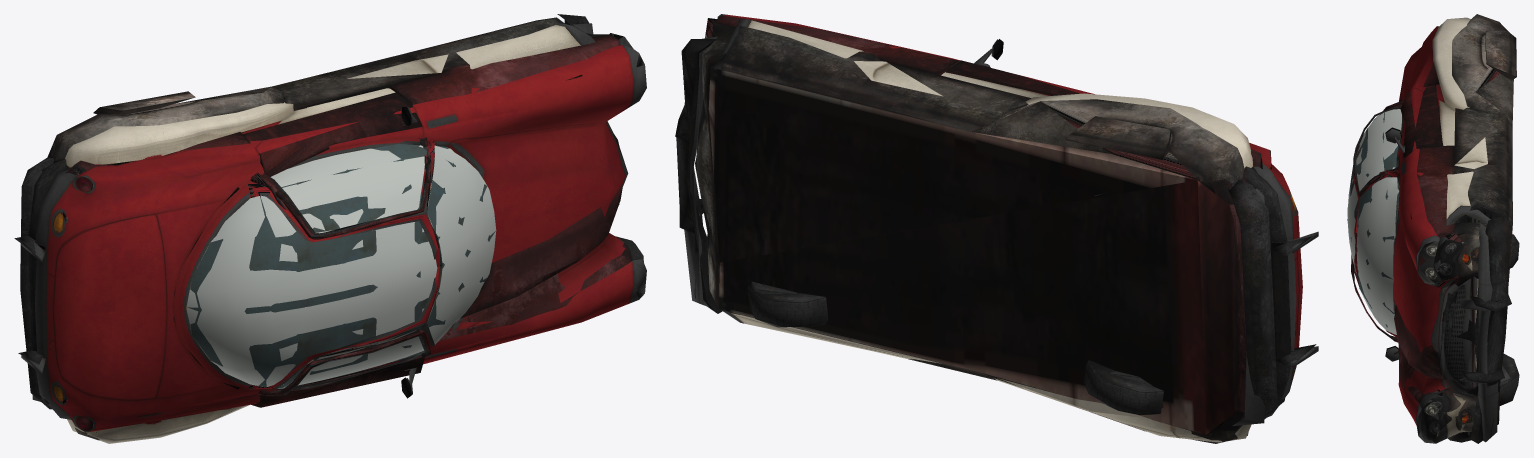
Rendered from veh_t6_nuketown_2020_car02_whole_LOD3.obj.
3 views of the same model, side by side, from view 1: azimuth 30°, elevation 25°; view 2: azimuth 150°, elevation 25°; view 3: azimuth 270°, elevation 25° (orthographic). The views are drawn at different scales.
Parts seen in each view (by area): view 1: mtl_nt_2020_car_02_exterior, mtl_nt_2020_car_02_dest_exterior, mtl_veh_t6_shattered_glass_in, mtl_nt_2020_car_01_glass_out, mtl_veh_t6_shattered_glass_out, mtl_nt_2020_car_01_glass_in; view 2: mtl_nt_2020_car_02_dest_exterior, mtl_nt_2020_car_02_exterior; view 3: mtl_nt_2020_car_02_dest_exterior, mtl_nt_2020_car_02_exterior, mtl_veh_t6_shattered_glass_in, mtl_nt_2020_car_01_glass_out, mtl_veh_t6_shattered_glass_out.
Boxes of the visible parts, left/top/right/bottom form: mtl_nt_2020_car_02_exterior: left=21, top=23, right=646, bottom=443; mtl_nt_2020_car_02_dest_exterior: left=14, top=14, right=643, bottom=440; mtl_veh_t6_shattered_glass_in: left=187, top=145, right=496, bottom=388; mtl_nt_2020_car_01_glass_out: left=187, top=144, right=495, bottom=388; mtl_veh_t6_shattered_glass_out: left=188, top=151, right=495, bottom=384; mtl_nt_2020_car_01_glass_in: left=189, top=144, right=483, bottom=387; mtl_nt_2020_car_02_dest_exterior: left=675, top=15, right=1316, bottom=443; mtl_nt_2020_car_02_exterior: left=684, top=14, right=1318, bottom=442; mtl_nt_2020_car_02_dest_exterior: left=1351, top=14, right=1519, bottom=443; mtl_nt_2020_car_02_exterior: left=1354, top=17, right=1510, bottom=443; mtl_veh_t6_shattered_glass_in: left=1347, top=109, right=1401, bottom=334; mtl_nt_2020_car_01_glass_out: left=1347, top=112, right=1399, bottom=327; mtl_veh_t6_shattered_glass_out: left=1348, top=109, right=1401, bottom=326.
Size of the model in its own units: 503 by 248 by 156.
